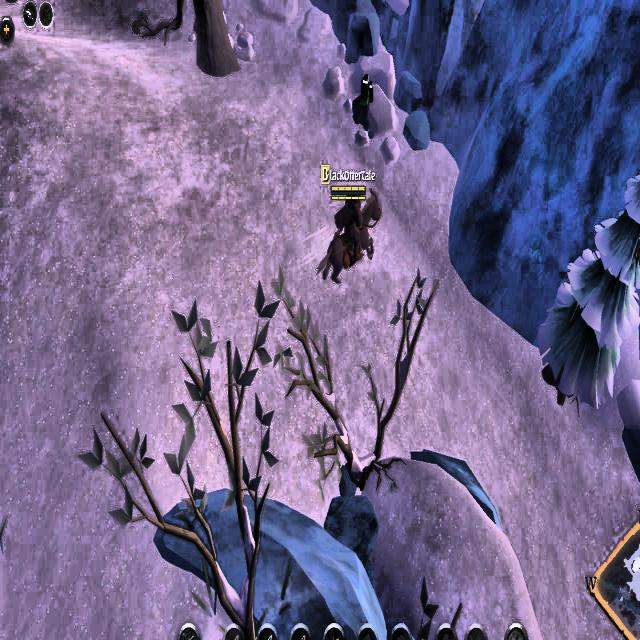tinore: (352, 74, 379, 126)
